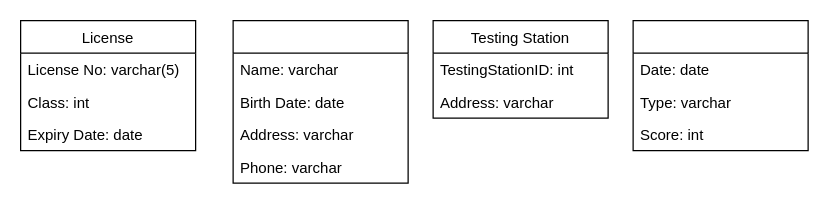
This 829x204 diagram has some shape labels left out. The box of each missing label's shape, as (x1, y1, x2, y2) in pixels:
Driver: (232, 19, 408, 183)
Exam: (632, 19, 808, 151)
